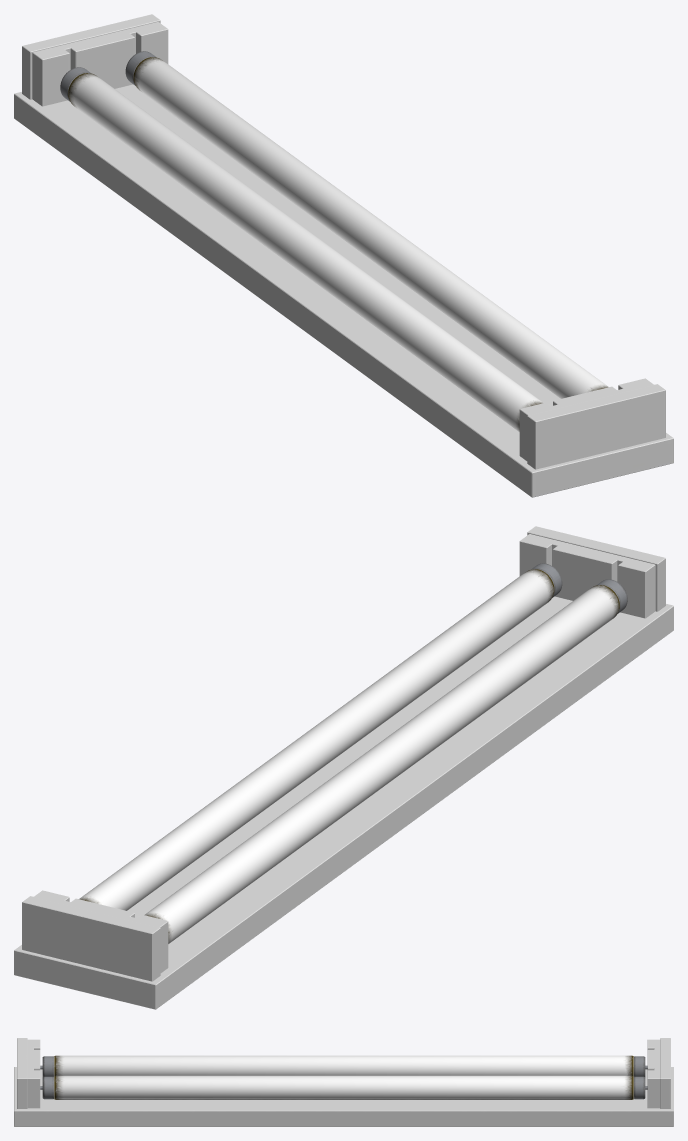
Rendered from FlourescentLight.fbx.
3 renders of one model, top to bottom at view 1: azimuth 30°, elevation 25°; view 2: azimuth 150°, elevation 25°; view 3: azimuth 270°, elevation 25°, orthographic. The views are drawn at different scales.
Parts seen in each view (by area): view 1: Cylinder, Cube.001, Cube.002, Cube, Cylinder.001; view 2: Cylinder, Cube.001, Cube.002, Cube, Cylinder.001; view 3: Cylinder, Cube.001, Cube, Cube.002, Cylinder.001.
Boxes of the visible parts, left/top/right/bottom form: Cylinder: left=68, top=57, right=608, bottom=431; Cube.001: left=14, top=84, right=673, bottom=497; Cube.002: left=22, top=14, right=665, bottom=469; Cube: left=32, top=22, right=653, bottom=460; Cylinder.001: left=60, top=51, right=156, bottom=101; Cylinder: left=79, top=569, right=619, bottom=943; Cube.001: left=14, top=596, right=673, bottom=1009; Cube.002: left=22, top=526, right=665, bottom=981; Cube: left=34, top=534, right=655, bottom=972; Cylinder.001: left=531, top=563, right=627, bottom=613; Cylinder: left=54, top=1055, right=633, bottom=1099; Cube.001: left=14, top=1067, right=673, bottom=1126; Cube: left=27, top=1039, right=660, bottom=1108; Cube.002: left=17, top=1038, right=670, bottom=1108; Cylinder.001: left=42, top=1056, right=645, bottom=1099.
Size of the model in its own units: 20.44 by 10.05 by 129.
